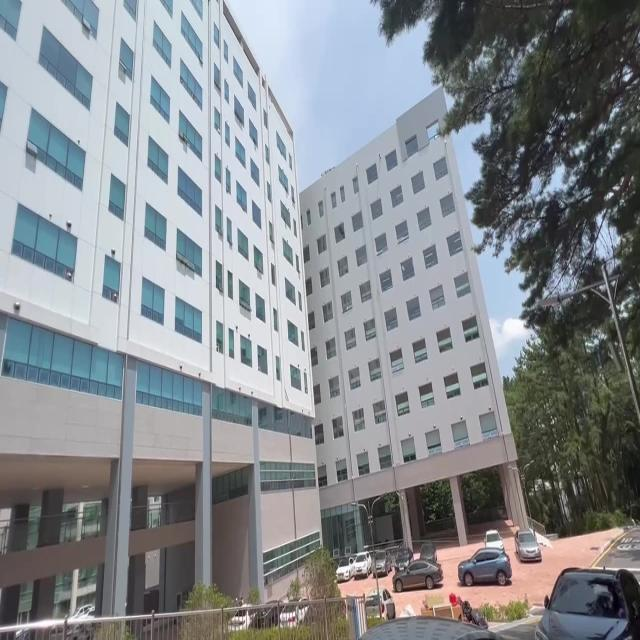building: (5, 16, 473, 528)
